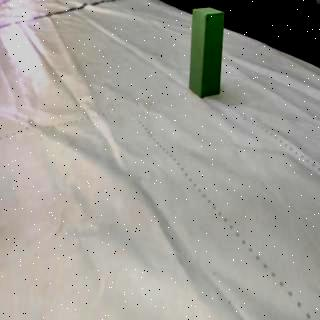greenbox: (190, 6, 224, 98)
